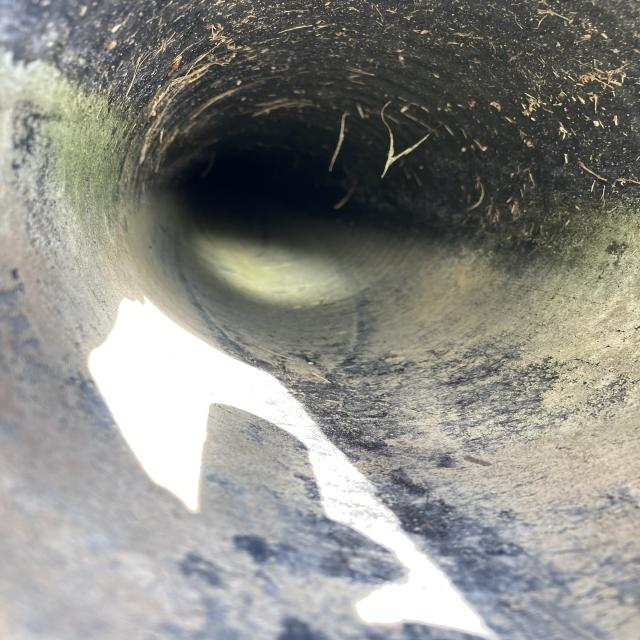root: (320, 102, 445, 182), (157, 59, 262, 132)
